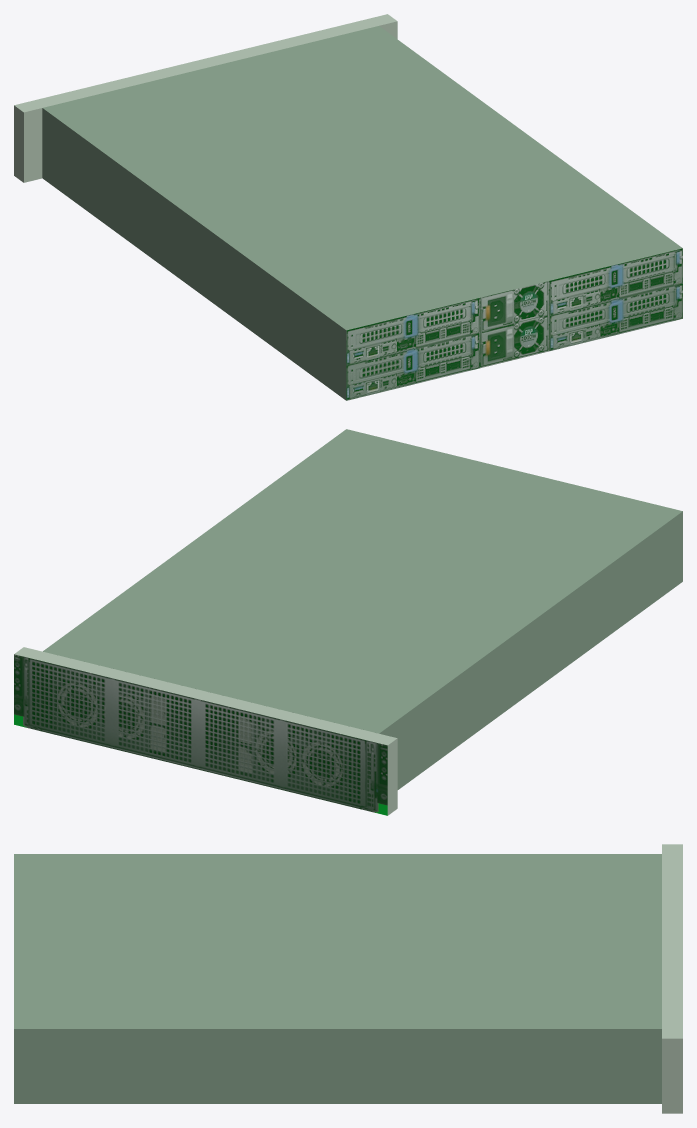
3 views of the same model, one above another, from view 1: azimuth 30°, elevation 25°; view 2: azimuth 150°, elevation 25°; view 3: azimuth 270°, elevation 25° (orthographic). The views are drawn at different scales.
Visible parts, largest first — view 1: Chassis_Cube; view 2: Chassis_Cube; view 3: Chassis_Cube.
Part boxes in pixels (x1,y1,x2,y2): Chassis_Cube: [14, 14, 682, 400]; Chassis_Cube: [14, 429, 682, 815]; Chassis_Cube: [14, 844, 682, 1113].
Size of the model in its own units: 0.6426 by 0.1157 by 0.9344.
